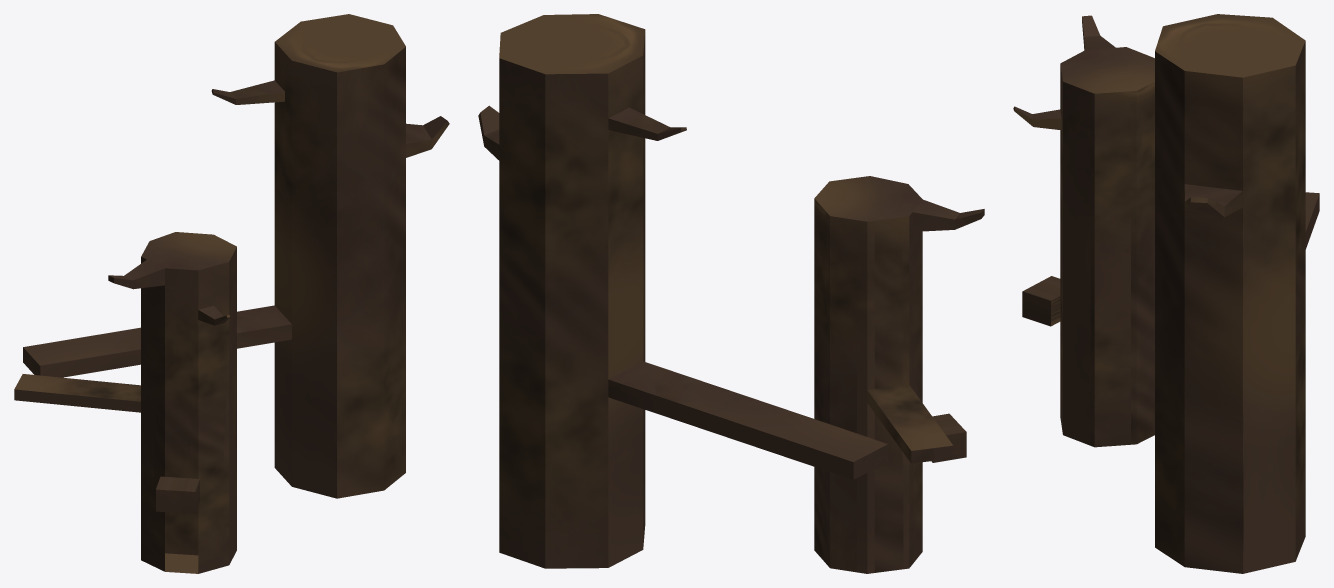
File: one step (for stairs).fbx
3 renders of one model, left to right at view 1: azimuth 30°, elevation 25°; view 2: azimuth 150°, elevation 25°; view 3: azimuth 270°, elevation 25°, orthographic. The views are drawn at different scales.
Parts seen in each view (by area): view 1: Cube, Cube.001, Cube.002; view 2: Cube, Cube.001, Cube.002; view 3: Cube, Cube.001, Cube.002.
Boxes of the visible parts, box(x1,y1,x2,y2) form: Cube: box(23, 14, 449, 498); Cube.001: box(14, 232, 236, 573); Cube.002: box(156, 476, 199, 513); Cube: box(478, 14, 888, 568); Cube.001: box(814, 176, 984, 573); Cube.002: box(931, 413, 966, 462); Cube: box(1155, 14, 1319, 573); Cube.001: box(1013, 15, 1154, 447); Cube.002: box(1022, 276, 1060, 326).
Size of the model in its own units: 737 by 717 by 401.
